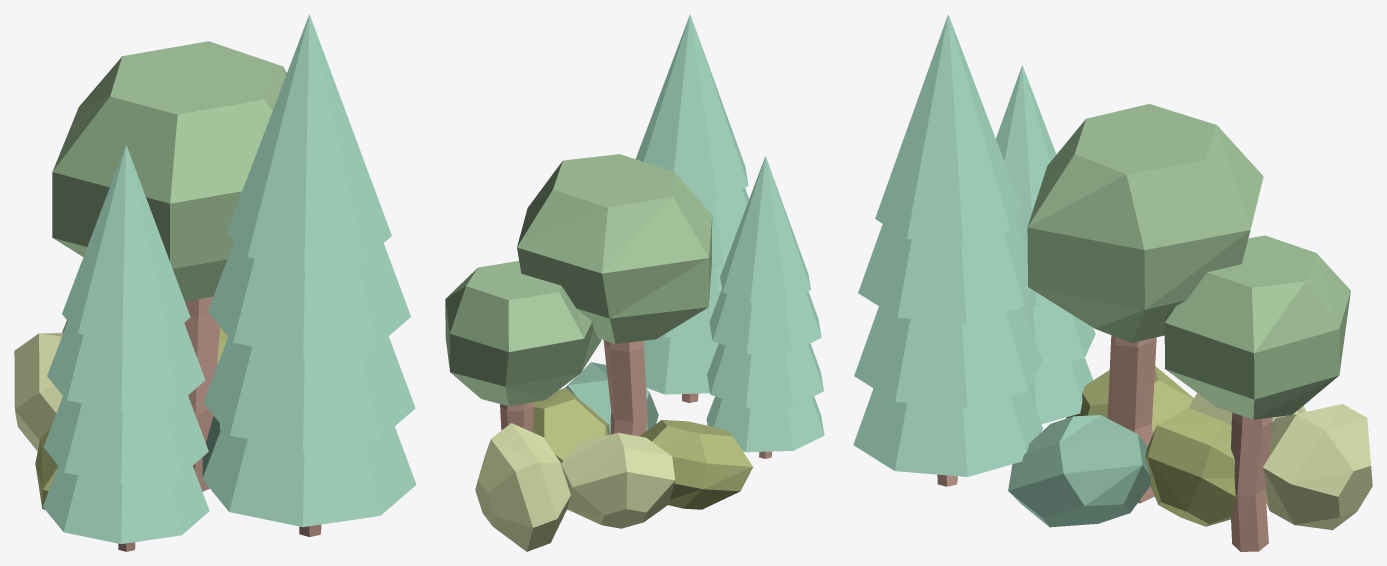
File: Trees.dae
3 views of the same model, side by side, from view 1: azimuth 30°, elevation 25°; view 2: azimuth 150°, elevation 25°; view 3: azimuth 270°, elevation 25° (orthographic). The views are drawn at different scales.
Visible parts, largest first — view 1: Trees; view 2: Trees; view 3: Trees.
Boxes of the visible parts, x1,y1,x2,y2 form: Trees: [14, 14, 416, 551]; Trees: [445, 14, 824, 551]; Trees: [853, 14, 1372, 551].
Size of the model in its own units: 7.38 by 9.86 by 10.75.
